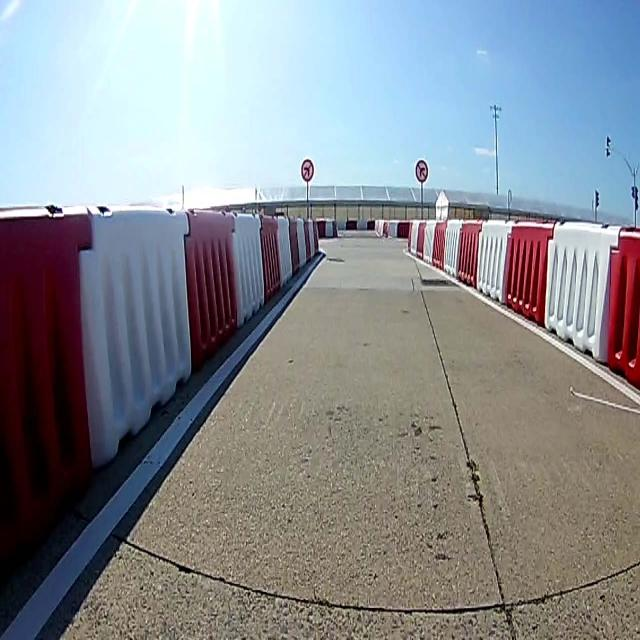sagadonulmez: (414, 157, 430, 184)
soladonulmez: (300, 158, 314, 182)
